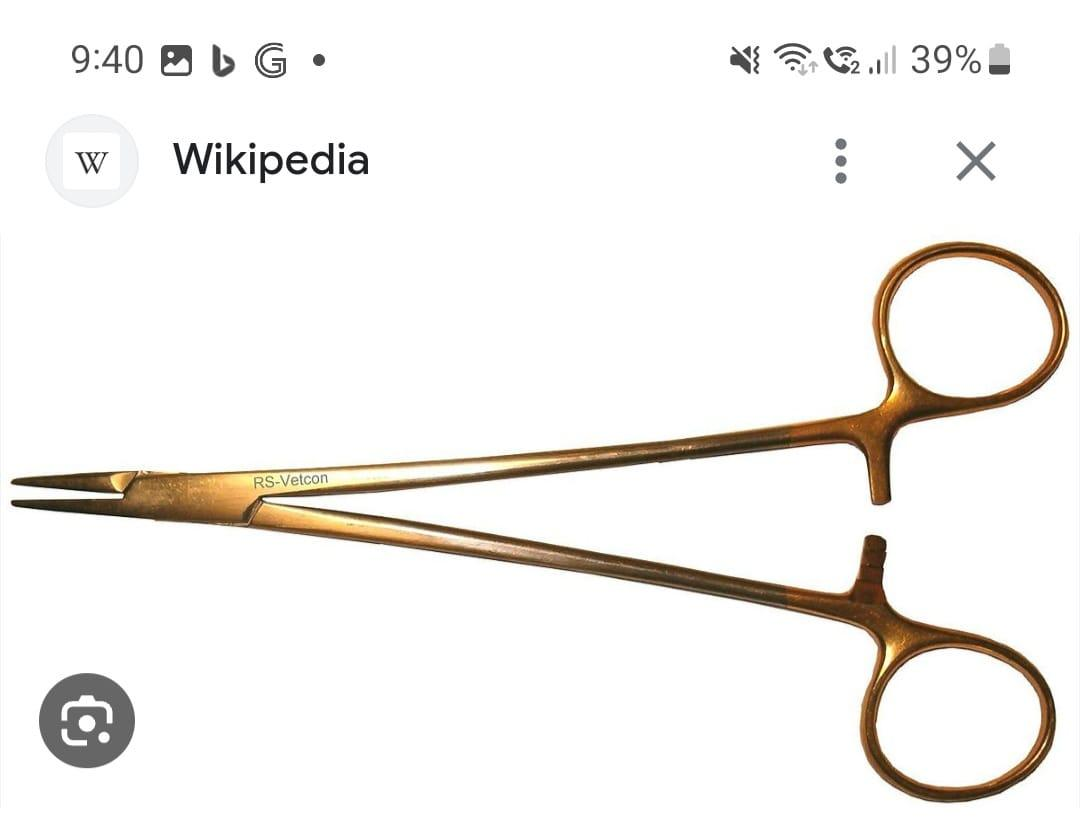Needle Holder: (3, 234, 1060, 810)
